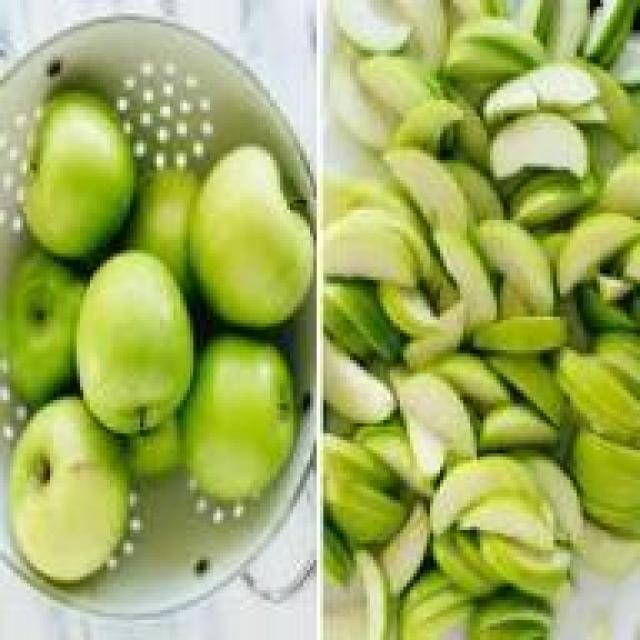apple: (17, 403, 130, 587), (70, 247, 190, 420), (193, 156, 317, 316), (177, 337, 300, 490), (13, 103, 134, 250), (7, 266, 90, 396), (137, 163, 193, 270)
